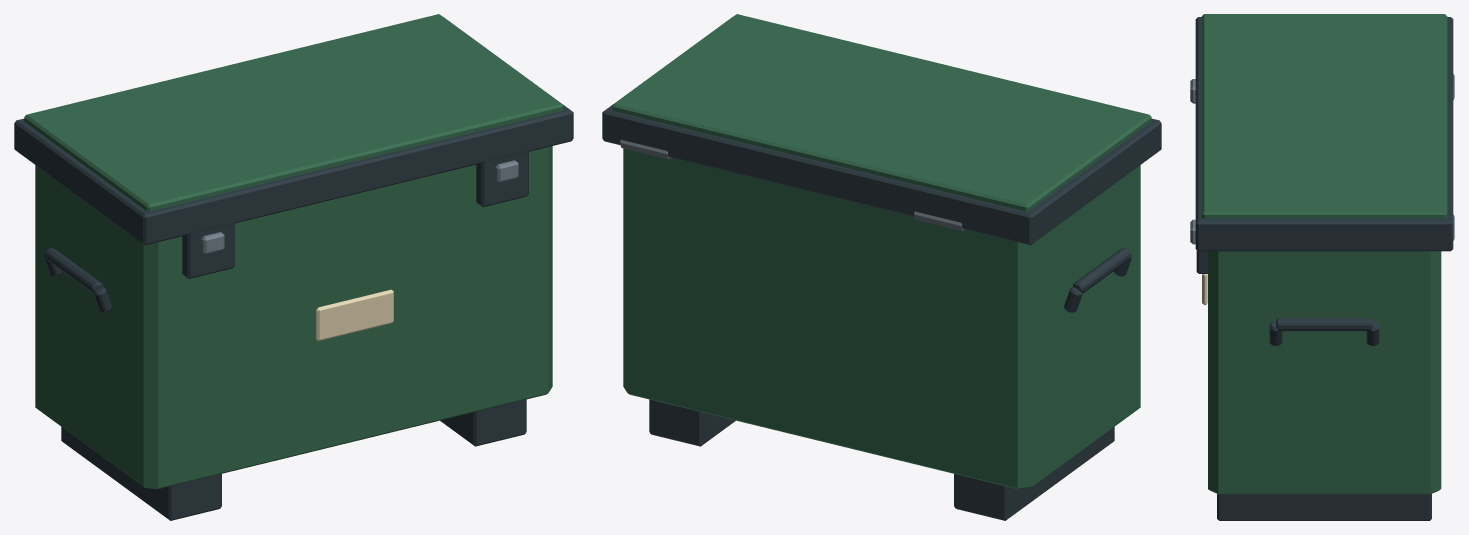
The model's file is b07_heavy_jobsite_gang_box.glb.
3 views of the same model, side by side, from view 1: azimuth 30°, elevation 25°; view 2: azimuth 150°, elevation 25°; view 3: azimuth 270°, elevation 25° (orthographic).
Visible parts, largest first — view 1: b07_heavy_jobsite_gang_box; view 2: b07_heavy_jobsite_gang_box; view 3: b07_heavy_jobsite_gang_box.
Part boxes in pixels (x1=…): b07_heavy_jobsite_gang_box: x1=14, y1=14, x2=573, y2=520; b07_heavy_jobsite_gang_box: x1=602, y1=14, x2=1161, y2=520; b07_heavy_jobsite_gang_box: x1=1190, y1=14, x2=1454, y2=520.
Bounding box in the file's own units: 1.69 × 1.18 × 0.8715.
